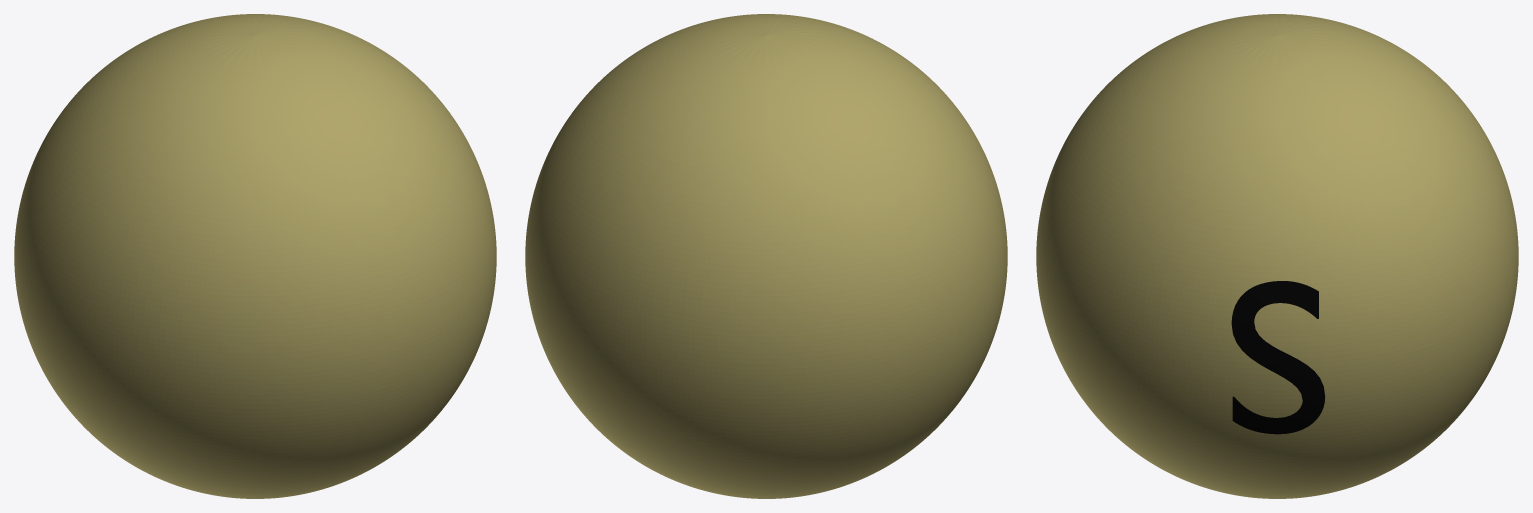
File: Sulfur (S).fbx
The picture shows the model from 3 angles, left to right: view 1: azimuth 30°, elevation 25°; view 2: azimuth 150°, elevation 25°; view 3: azimuth 270°, elevation 25°; orthographic projection.
Parts seen in each view (by area): view 1: Sphere.006; view 2: Sphere.006; view 3: Sphere.006, Text.006.
Part boxes in pixels (x1,y1,x2,y2): Sphere.006: (14,14,496,498); Sphere.006: (525,14,1007,498); Sphere.006: (1036,14,1518,498); Text.006: (1231,281,1325,434).
Size of the model in its own units: 198 by 200 by 197.
